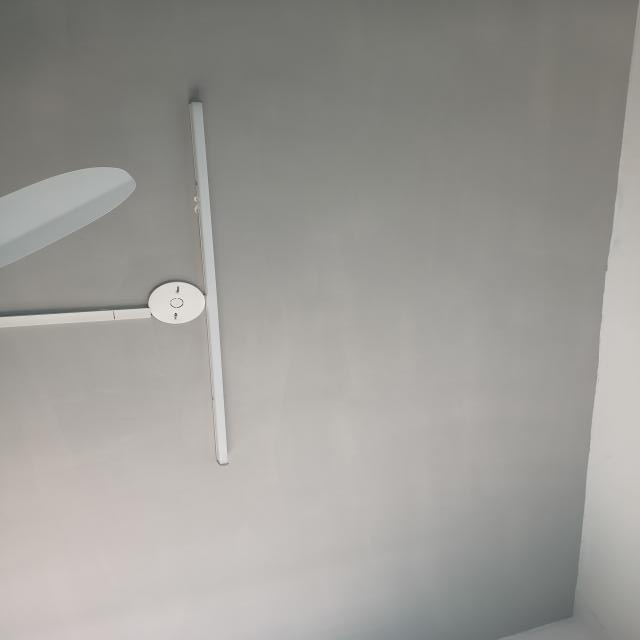fluorescent tube: (172, 84, 258, 477)
